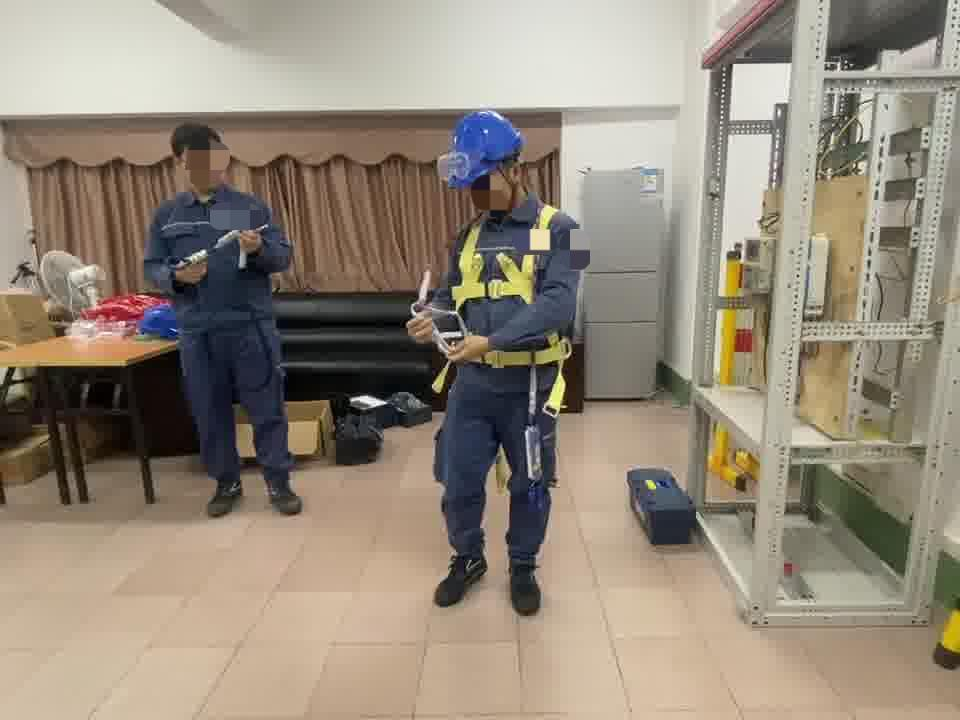halt: (441, 112, 529, 211)
inear: (500, 158, 528, 198)
unhalt: (173, 124, 233, 193)
